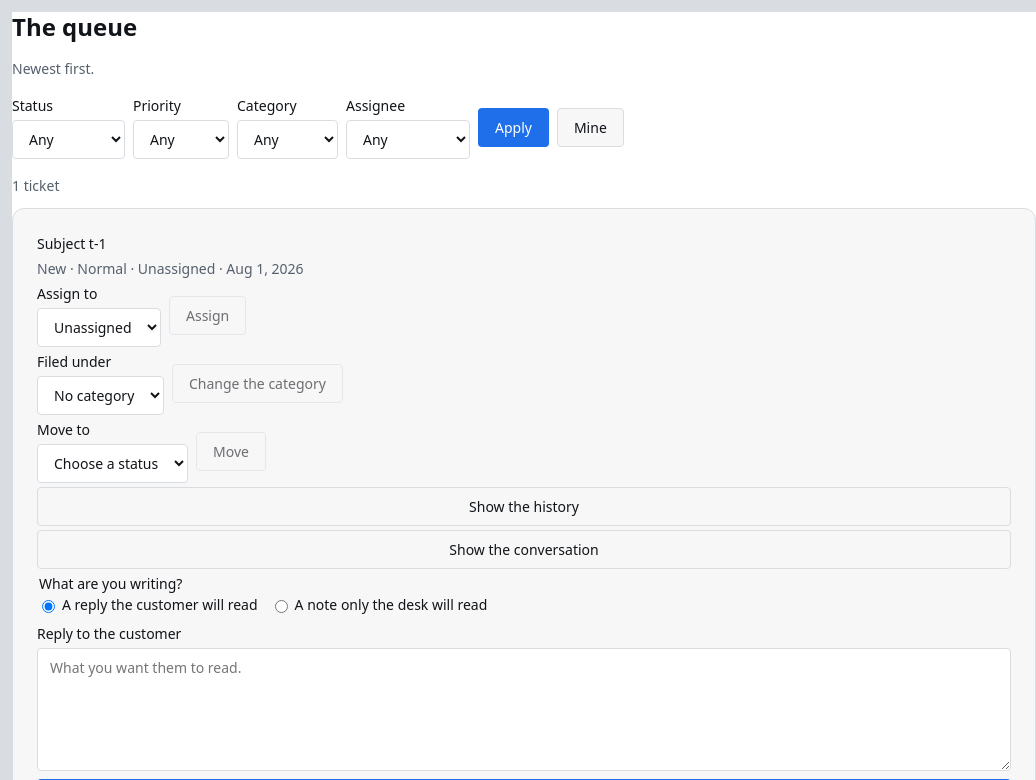
Test: the button does nothing until the choice is a change
The width and height of the screenshot is (1036, 780).
Expected: the text "Subject t-1" is shown, [37,234,106,253]
Expected: the button "Change the category" is disabled, [172,364,343,402]
Select "Billing" in the dropdown labelled "Filed under". click: (100, 396)
box: [37,376,164,415]
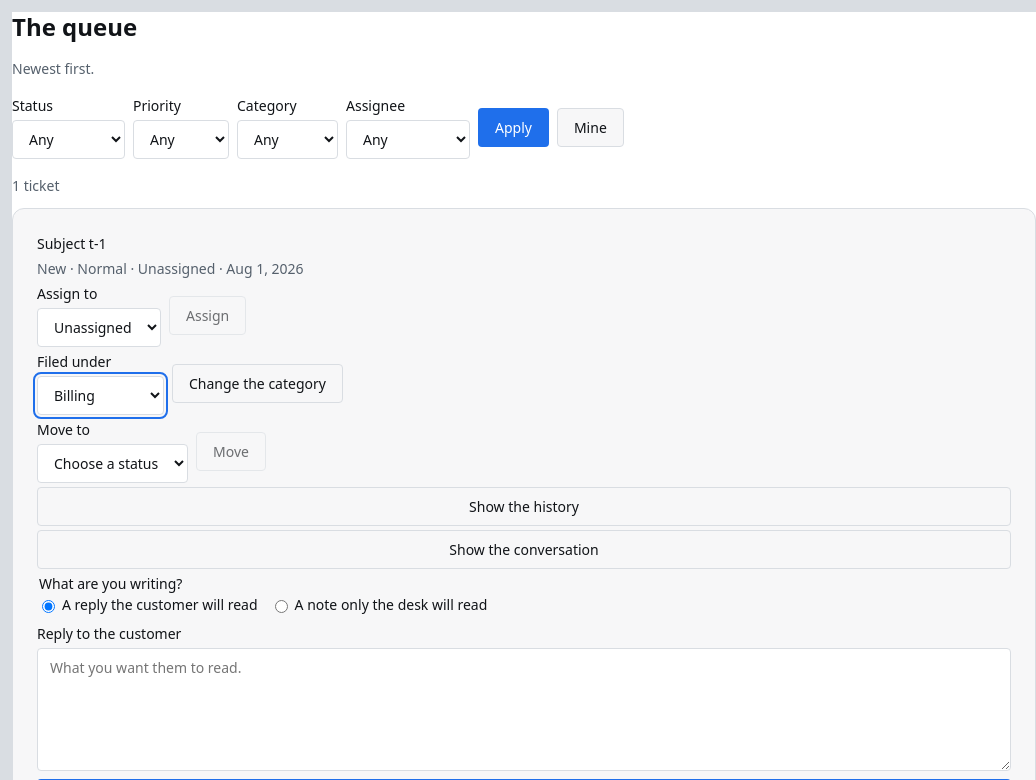
Now the button "Change the category" is enabled, box [172,364,343,402]
Select "No category" in the dropdown labelled "Filed under". click: (100, 396)
box: [37,376,164,415]
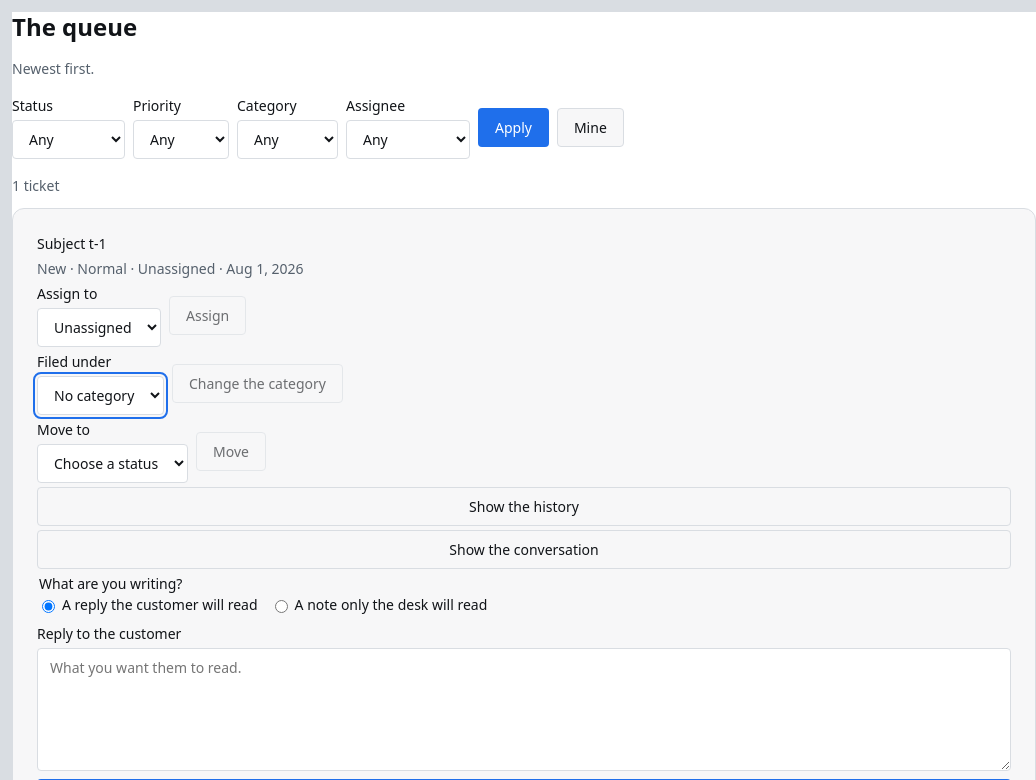
Now the button "Change the category" is disabled, box [172,364,343,402]
